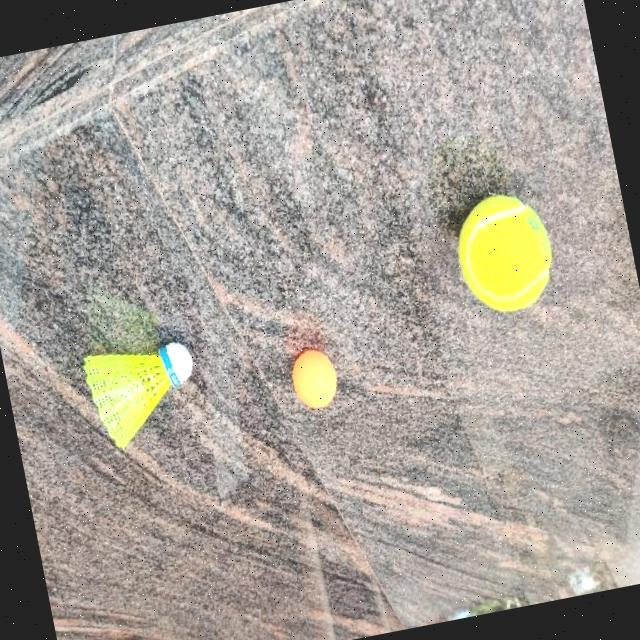ping-pong-ball: (285, 346, 340, 412)
